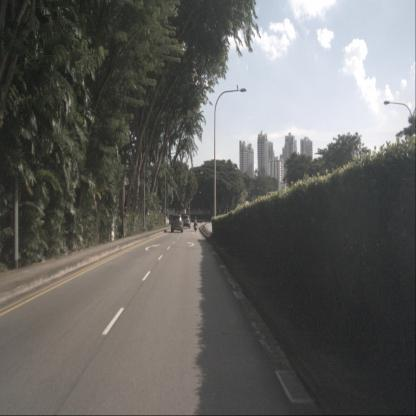vehicle-car: (171, 214, 183, 233), (182, 215, 191, 229)
vehicle-motorcycle: (194, 216, 198, 232)
